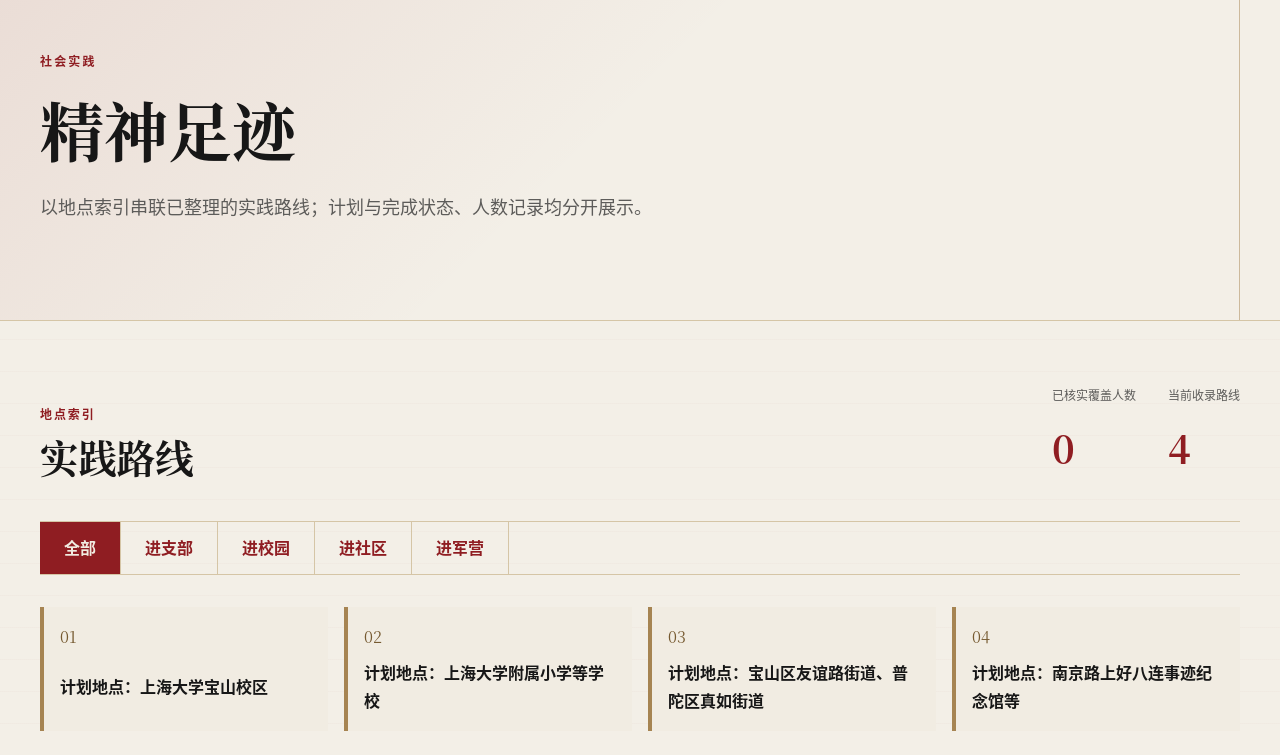
Test case: Footprints › filters every validated practice route to its own activity
Expected: the button "全部" is shown, [40,522,121,574]
Expected: the button "进校园" is shown, [218,522,315,574]
Click the button "进支部": (170, 548) [121,522,218,574]
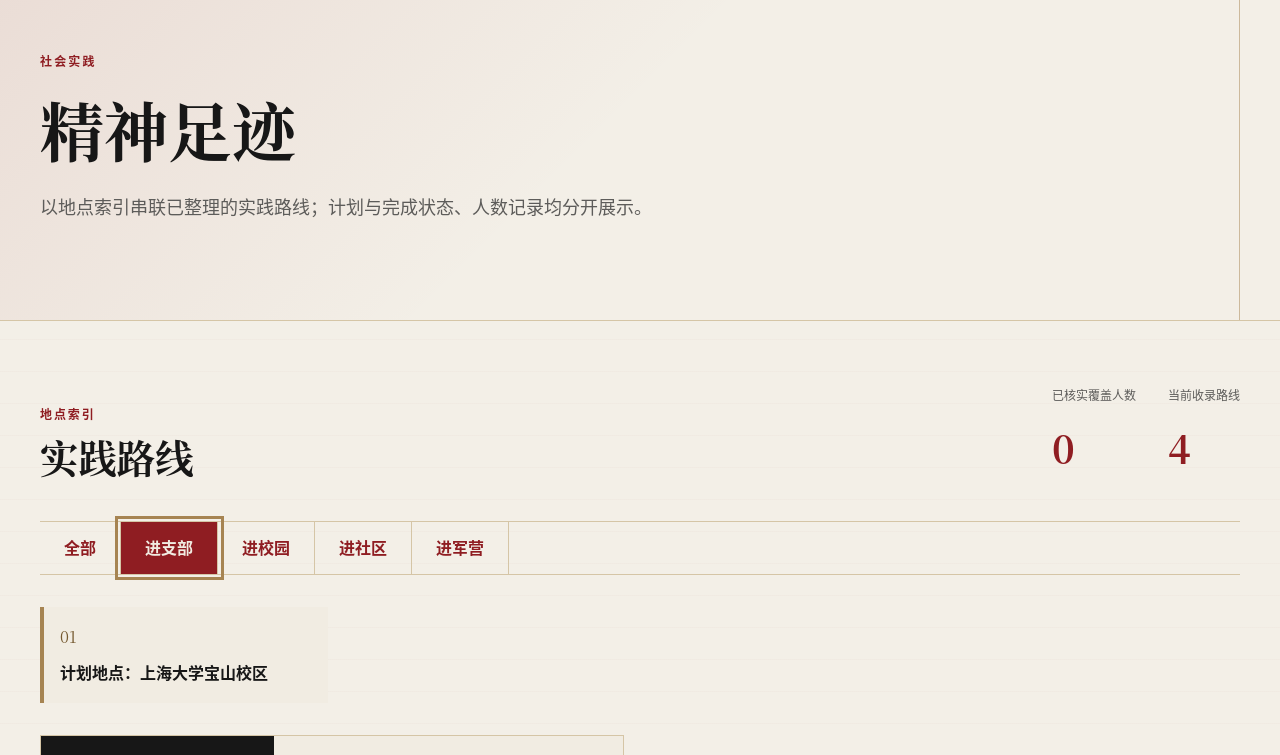
Expected: the heading "科学家精神进军营（计划）" is not shown
Now the button "进支部" is pressed, box [121,522,218,574]
Click the button "进校园": (266, 548) [218,522,315,574]
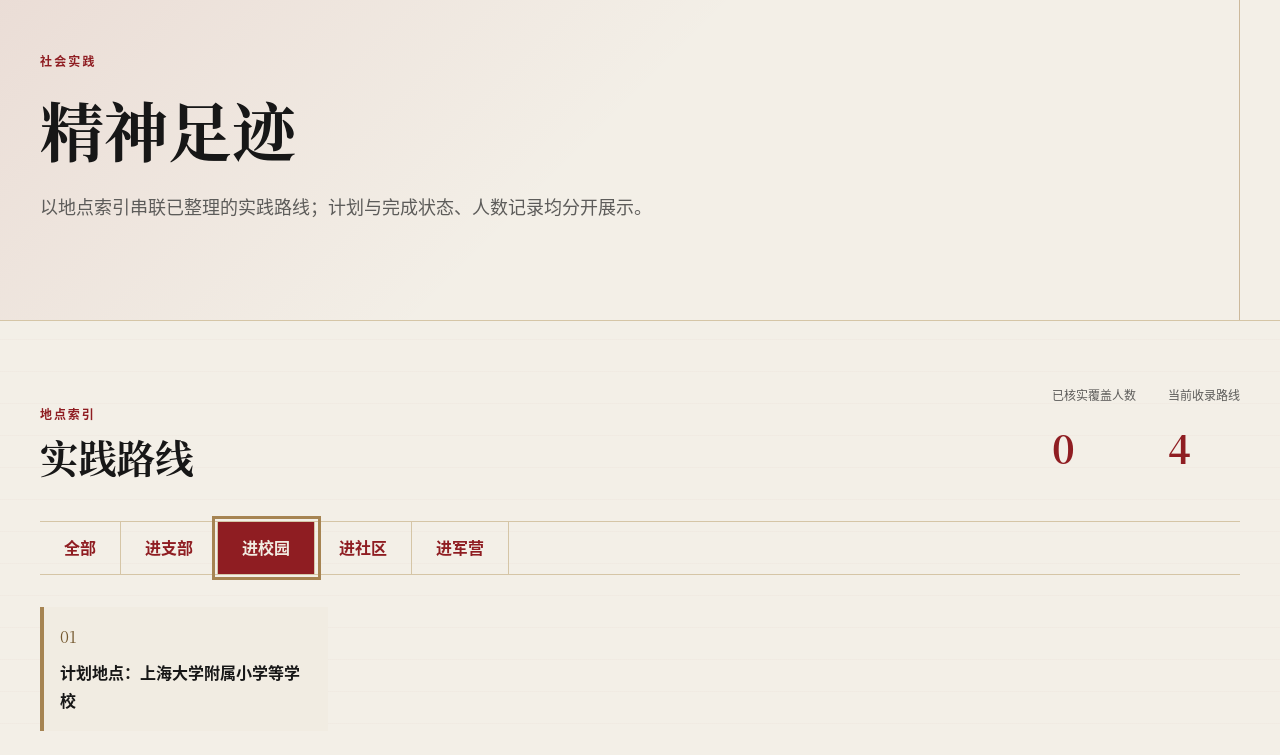
Expected: the heading "科学家精神进军营（计划）" is not shown
Now the button "进校园" is pressed, box [218,522,315,574]
Click the button "进社区": (364, 548) [315,522,412,574]
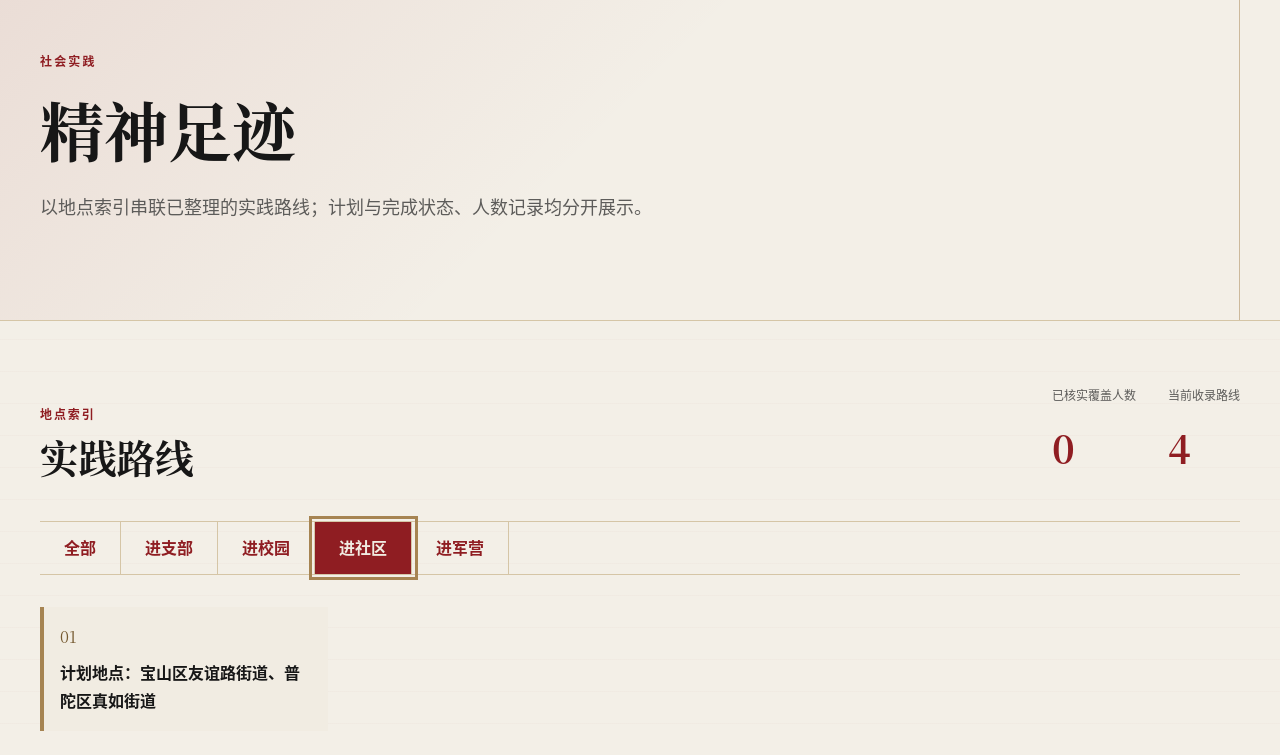
Expected: the heading "科学家精神进军营（计划）" is not shown
Now the button "进社区" is pressed, box [315,522,412,574]
Click the button "进军营": (461, 548) [412,522,509,574]
(page scrolled)
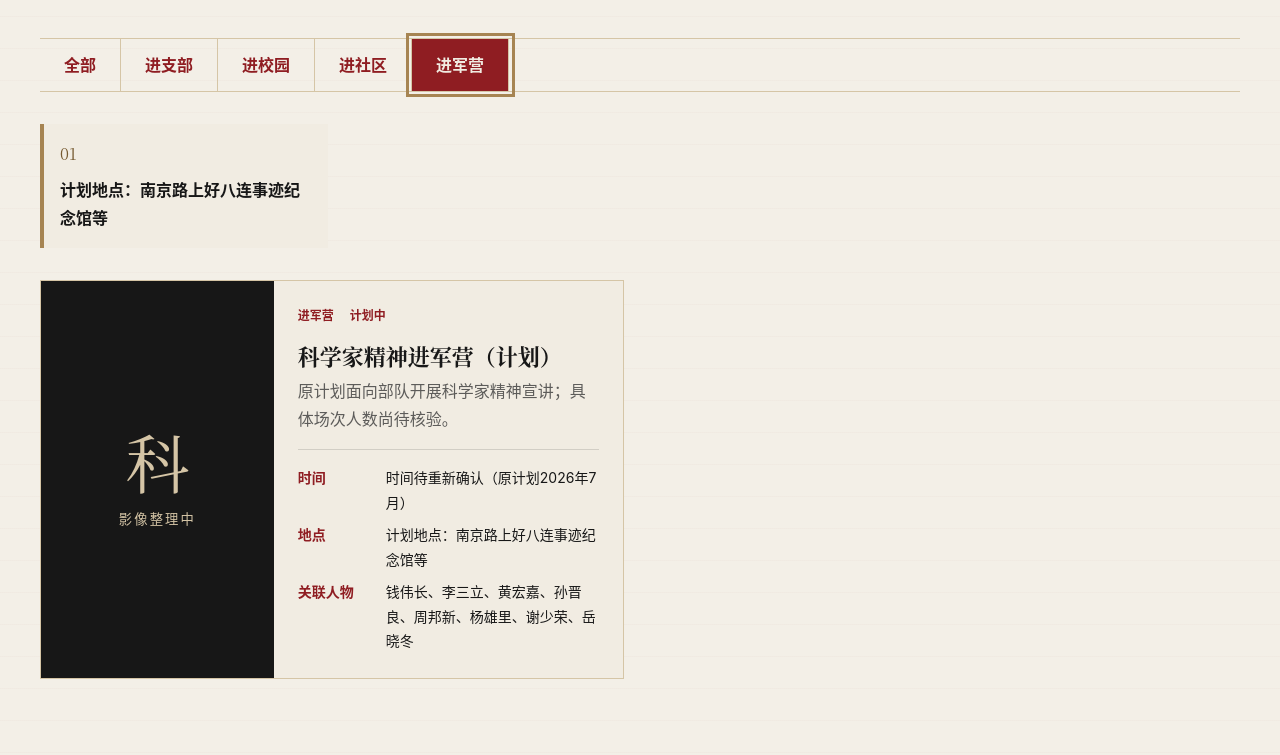
Now the heading "科学家精神进军营（计划）" is shown, box [298,342,599,369]
